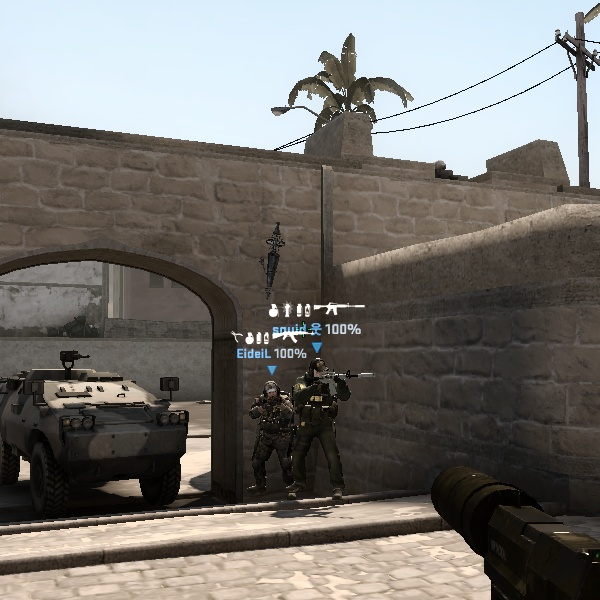ct_body: (289, 356, 357, 495), (244, 378, 295, 495)
ct_head: (303, 355, 335, 385), (260, 378, 285, 404)
